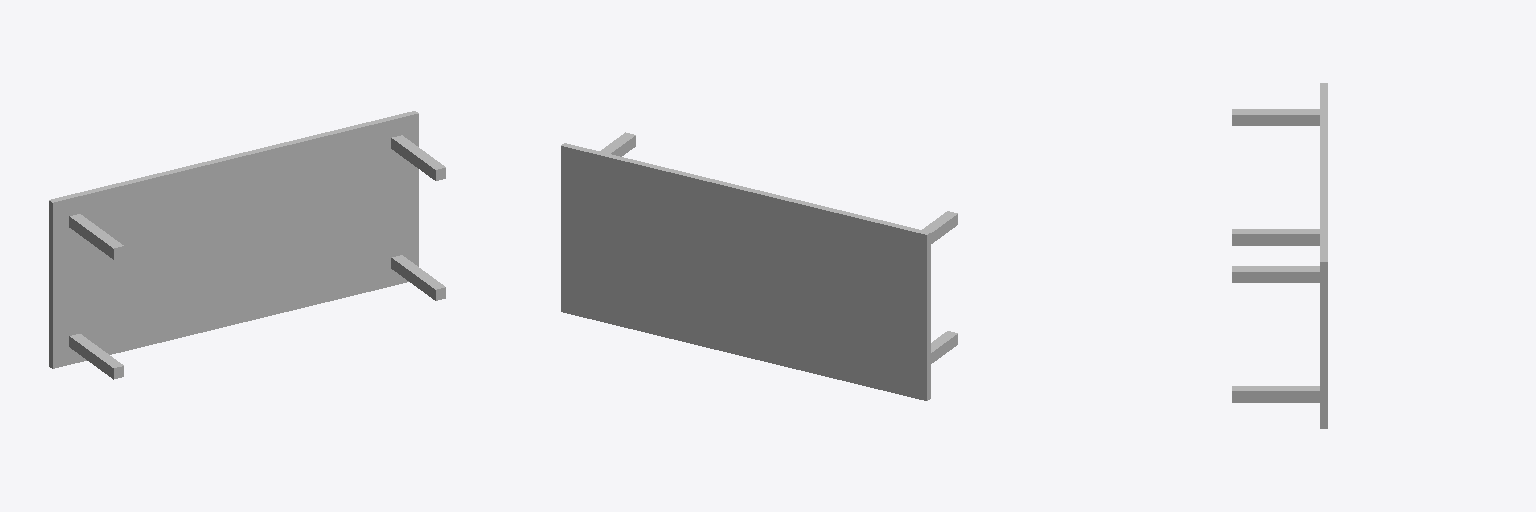
The model's file is random_table0.obj.
3 views of the same model, side by side, from view 1: azimuth 30°, elevation 25°; view 2: azimuth 150°, elevation 25°; view 3: azimuth 270°, elevation 25° (orthographic).
Visible parts, largest first — view 1: Table_Cube.195, TableLeg0_Cube.196, TableLeg1_Cube.197, TableLeg2_Cube.198, TableLeg3_Cube.199; view 2: Table_Cube.195, TableLeg1_Cube.197, TableLeg3_Cube.199; view 3: Table_Cube.195, TableLeg0_Cube.196, TableLeg1_Cube.197, TableLeg2_Cube.198, TableLeg3_Cube.199.
Part boxes in pixels (left/top/right/bottom): Table_Cube.195: left=49, top=111, right=418, bottom=368; TableLeg0_Cube.196: left=391, top=135, right=445, bottom=180; TableLeg1_Cube.197: left=69, top=214, right=123, bottom=259; TableLeg2_Cube.198: left=391, top=255, right=445, bottom=300; TableLeg3_Cube.199: left=69, top=334, right=123, bottom=379; Table_Cube.195: left=561, top=143, right=930, bottom=400; TableLeg1_Cube.197: left=922, top=211, right=957, bottom=243; TableLeg3_Cube.199: left=931, top=331, right=957, bottom=363; Table_Cube.195: left=1320, top=83, right=1327, bottom=428; TableLeg0_Cube.196: left=1232, top=266, right=1319, bottom=282; TableLeg1_Cube.197: left=1232, top=109, right=1319, bottom=125; TableLeg2_Cube.198: left=1232, top=386, right=1319, bottom=402; TableLeg3_Cube.199: left=1232, top=229, right=1319, bottom=245.
Size of the model in its own units: 12.93 by 5.61 by 2.93.